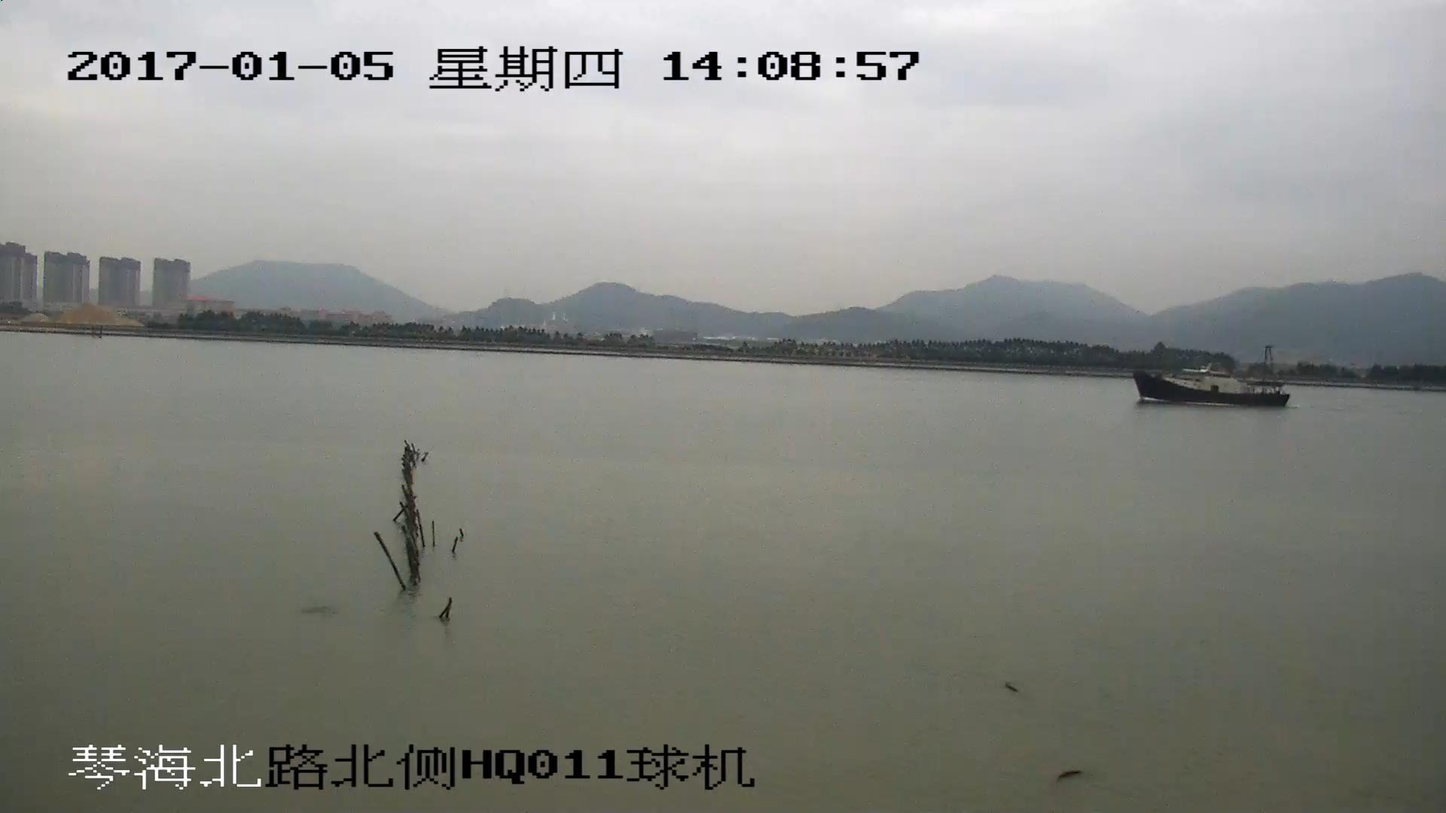fishing boat: (1133, 344, 1289, 405)
